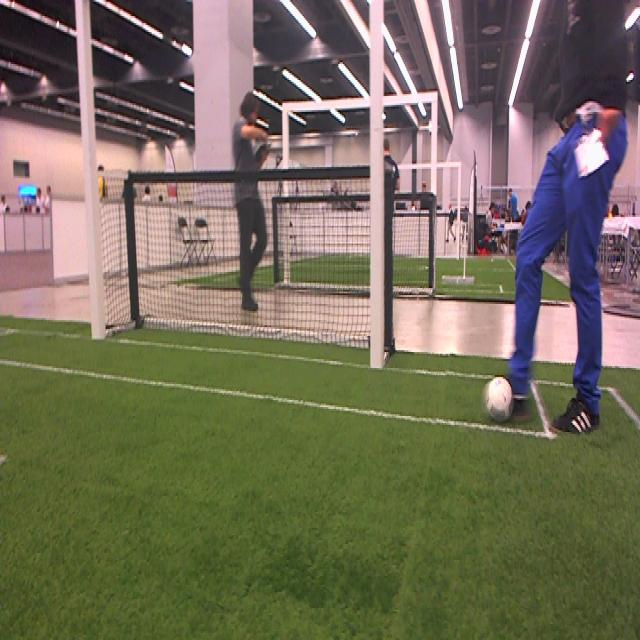ball: (484, 375, 511, 420)
goalpost: (74, 2, 105, 343), (368, 2, 385, 368)
